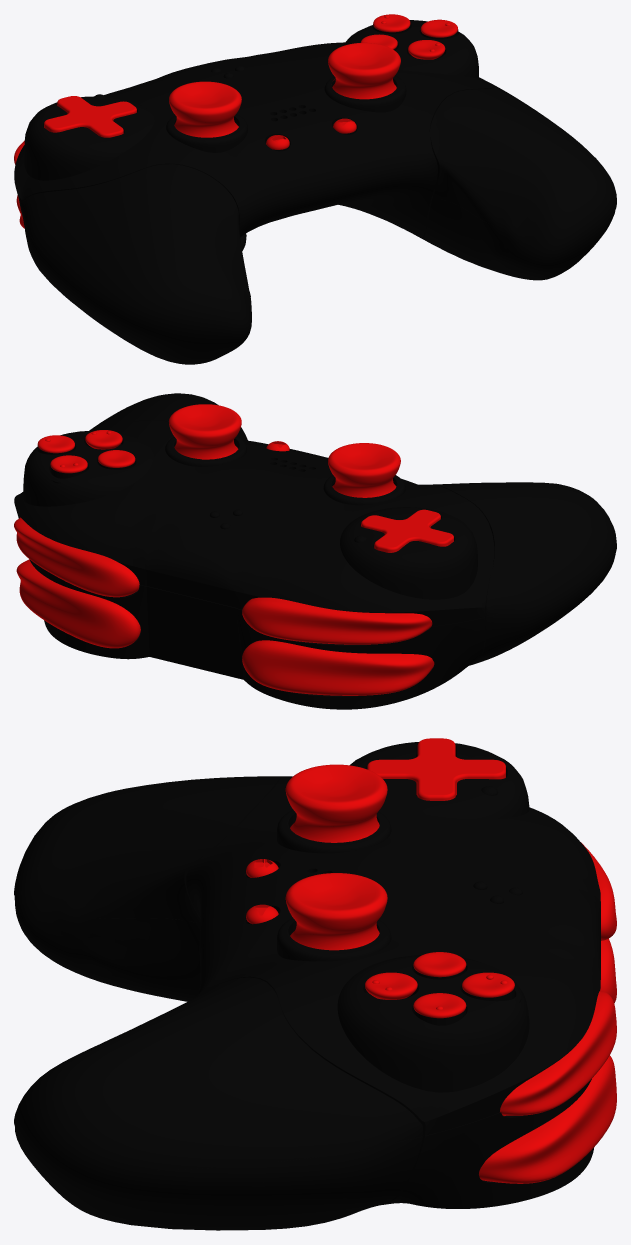
The model's file is controller.glb.
The picture shows the model from 3 angles, top to bottom: view 1: azimuth 30°, elevation 25°; view 2: azimuth 150°, elevation 25°; view 3: azimuth 270°, elevation 25°; orthographic projection. The views are drawn at different scales.
Bounding box in the file's own units: 14.53 × 5.39 × 10.58.
